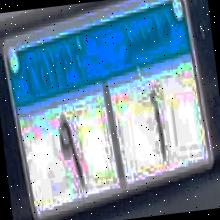9: (48, 108, 90, 203)
alif: (144, 82, 172, 164)
